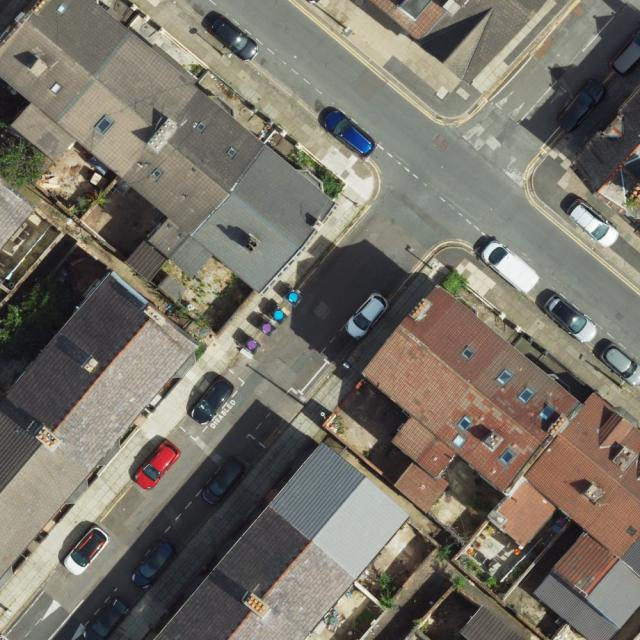roof: (0, 0, 339, 295), (361, 283, 640, 640), (0, 269, 198, 581), (155, 442, 410, 640), (373, 0, 551, 83), (569, 88, 640, 228), (460, 604, 531, 640), (0, 182, 35, 247)
skylight: (93, 111, 116, 135), (494, 367, 515, 388), (498, 446, 518, 467), (537, 402, 557, 423), (516, 385, 537, 405), (449, 431, 469, 451), (456, 412, 474, 433), (459, 343, 477, 362), (49, 80, 64, 95), (54, 2, 70, 16), (226, 144, 240, 159), (150, 167, 166, 180), (194, 121, 208, 134)
